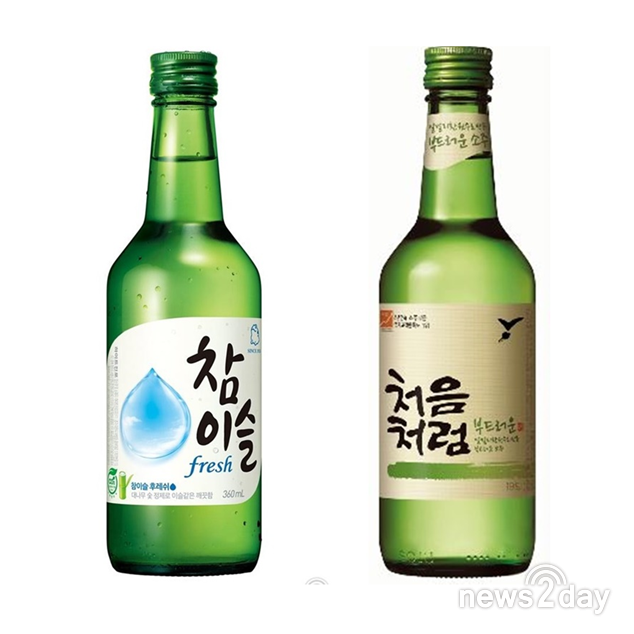soju: (372, 44, 542, 579), (102, 44, 268, 577)
